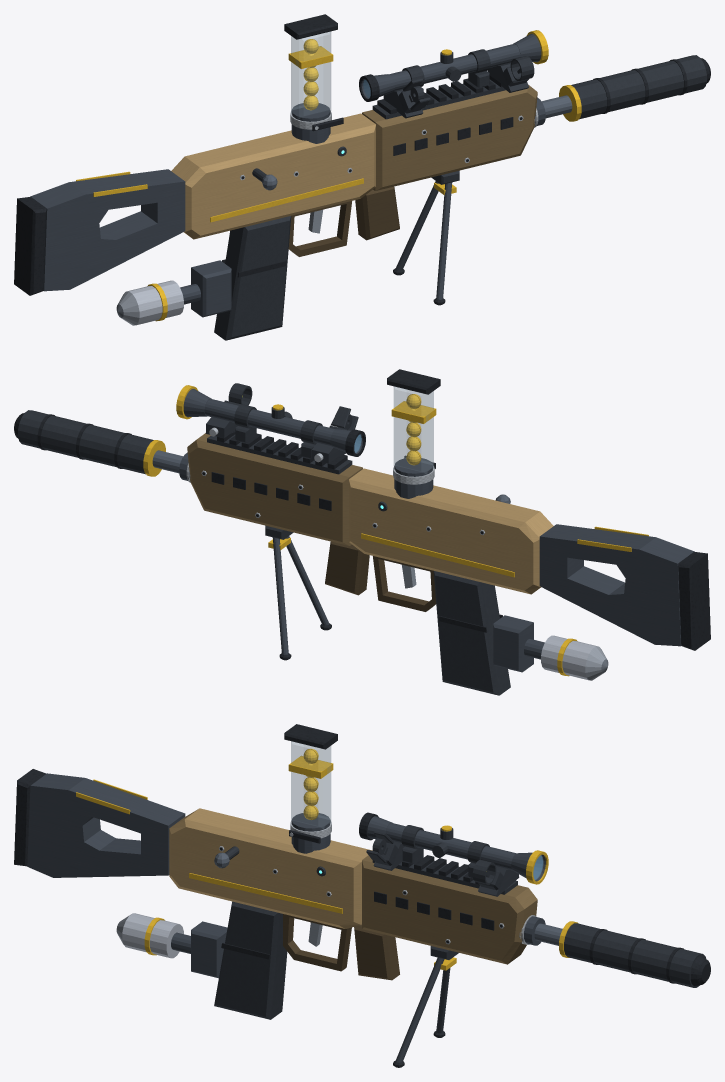
File: sniper_factory_v2.glb
The picture shows the model from 3 angles, top to bottom: view 1: azimuth 30°, elevation 25°; view 2: azimuth 150°, elevation 25°; view 3: azimuth 330°, elevation 25°; orthographic projection.
Parts seen in each view (by area): view 1: body, stock, barrel, sight_mesh, hopper_shell, tank, sight_canted_mesh, grip; view 2: body, stock, barrel, sight_mesh, hopper_shell, tank, grip, sight_canted_mesh; view 3: body, stock, barrel, sight_mesh, hopper_shell, tank, sight_canted_mesh, grip.
Boxes of the visible parts, x1,y1,x2,y2 form: body: (171,76,537,340); stock: (14,169,185,295); barrel: (534,55,710,127); sight_mesh: (359,30,548,101); hopper_shell: (284,14,337,118); tank: (116,280,200,325); sight_canted_mesh: (383,56,534,118); grip: (393,170,459,305); body: (187,431,553,695); stock: (539,524,710,650); barrel: (14,410,190,482); sight_mesh: (176,385,365,458); hopper_shell: (387,369,440,473); tank: (524,635,608,680); grip: (265,525,331,660); sight_canted_mesh: (205,383,358,463); body: (169,808,537,1019); stock: (14,769,185,877); barrel: (519,915,710,987); sight_mesh: (359,812,548,884); hopper_shell: (284,724,337,828); tank: (116,913,190,958); sight_canted_mesh: (366,830,519,896); grip: (393,946,458,1067).
Size of the model in its own units: 0.8925 by 0.364 by 0.1154.
Materials: 24 (17 with a texture image).
